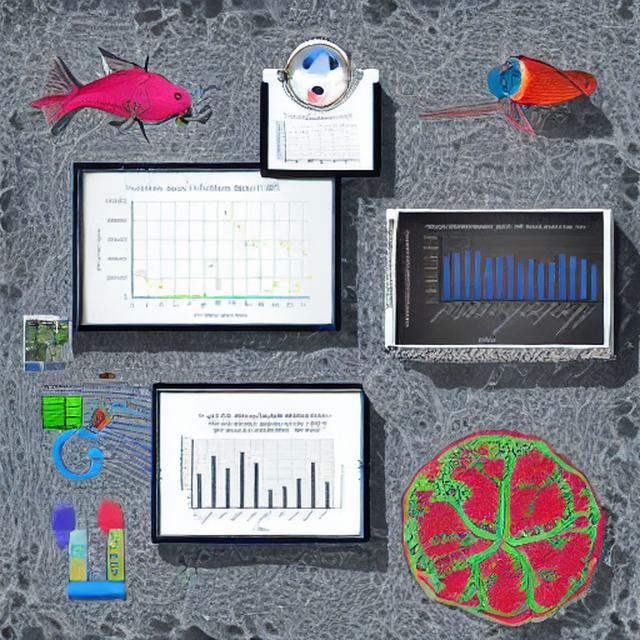Graph: (93, 181, 318, 321), (401, 222, 604, 345), (177, 419, 338, 533), (274, 114, 362, 168)
